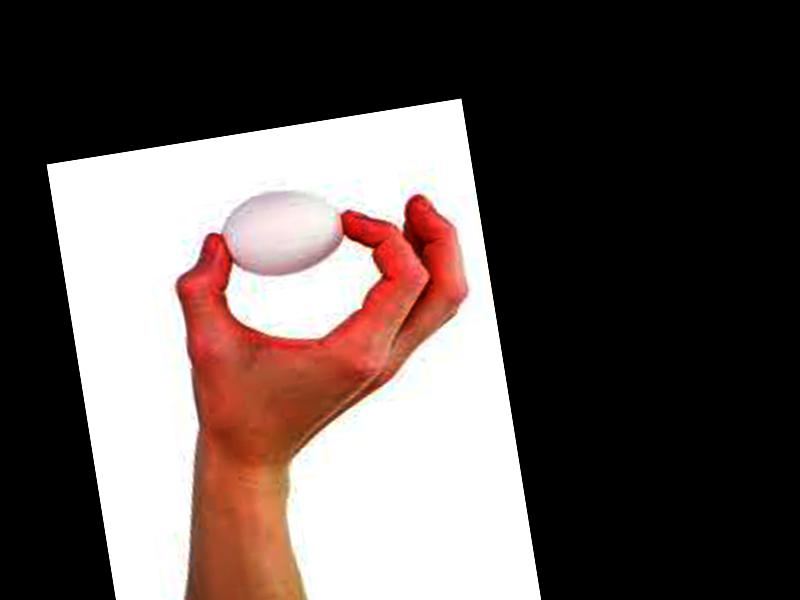Eggs: (217, 181, 350, 283)
